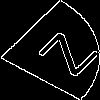Z: (25, 25, 100, 78)
